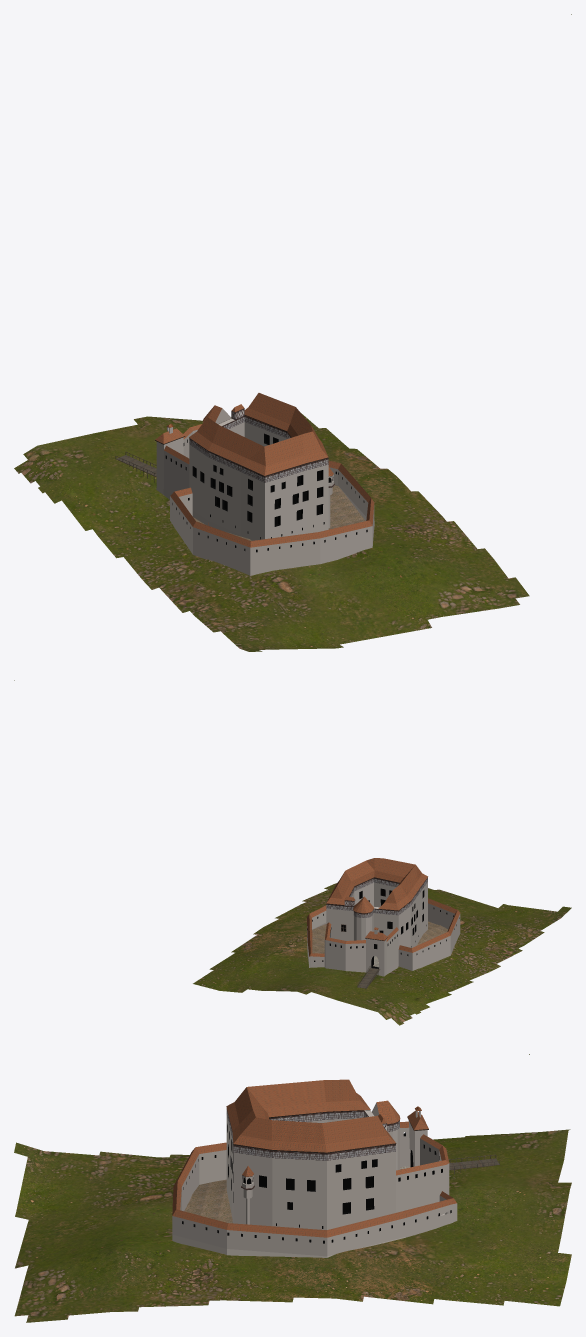
The model's file is Krakovec_muj.glb.
3 renders of one model, top to bottom at view 1: azimuth 30°, elevation 25°; view 2: azimuth 150°, elevation 25°; view 3: azimuth 270°, elevation 25°, orthographic. The views are drawn at different scales.
Visible parts, largest first — view 1: Terrain, Cube.002, Cube.012; view 2: Terrain, Cube.002, Cube.012; view 3: Terrain, Cube.002, Cube.012, Cube.006.
Part boxes in pixels (x1,y1,x2,y2): Terrain: (14, 14, 571, 651); Cube.002: (155, 404, 374, 575); Cube.012: (164, 393, 328, 475); Terrain: (14, 680, 571, 1025); Cube.002: (306, 865, 460, 976); Cube.012: (326, 858, 427, 941); Terrain: (14, 1054, 571, 1322); Cube.002: (172, 1079, 457, 1257); Cube.012: (226, 1087, 409, 1152); Cube.006: (448, 1154, 499, 1174).
Bounding box in the file's own units: 201 × 128 × 155.
Materials: 11 (8 with a texture image).
